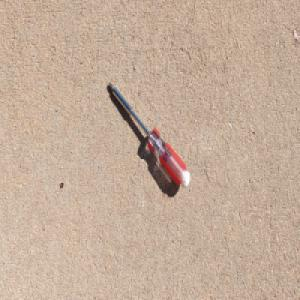Screwdriver: (107, 80, 191, 190)
